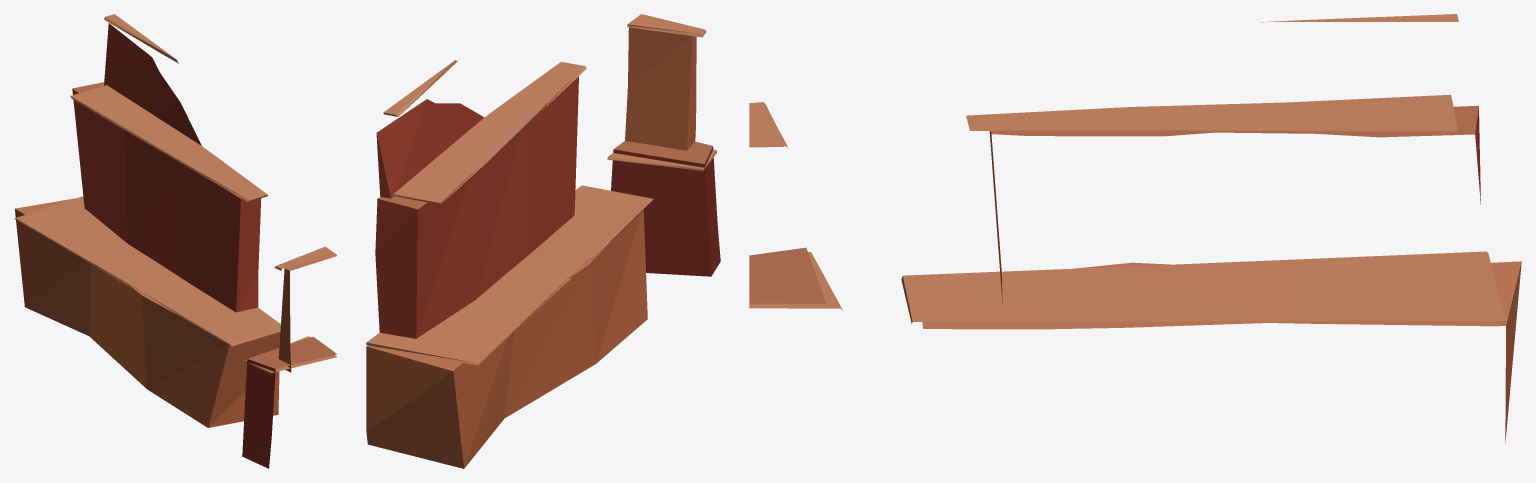
The picture shows the model from 3 angles, left to right: view 1: azimuth 30°, elevation 25°; view 2: azimuth 150°, elevation 25°; view 3: azimuth 270°, elevation 25°; orthographic projection. The views are drawn at different scales.
Visible parts, largest first — view 1: scene.1.0; view 2: scene.1.0; view 3: scene.1.0.
Part boxes in pixels (x1,y1,x2,y2): scene.1.0: (15, 14, 337, 468); scene.1.0: (366, 14, 720, 468); scene.1.0: (749, 14, 1521, 442).
Size of the model in its own units: 9.05 by 26.74 by 41.85.
